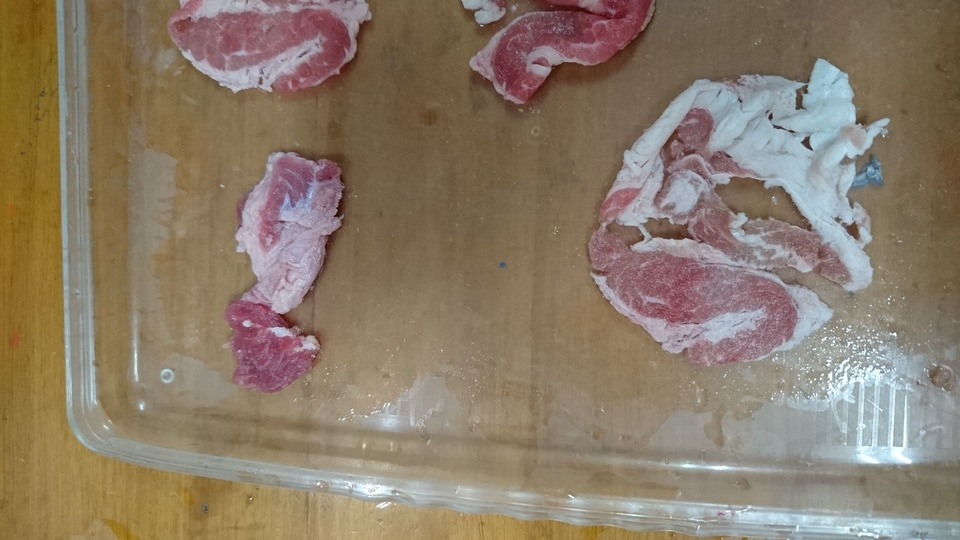restructured meat: (587, 47, 893, 365), (232, 149, 338, 404)
